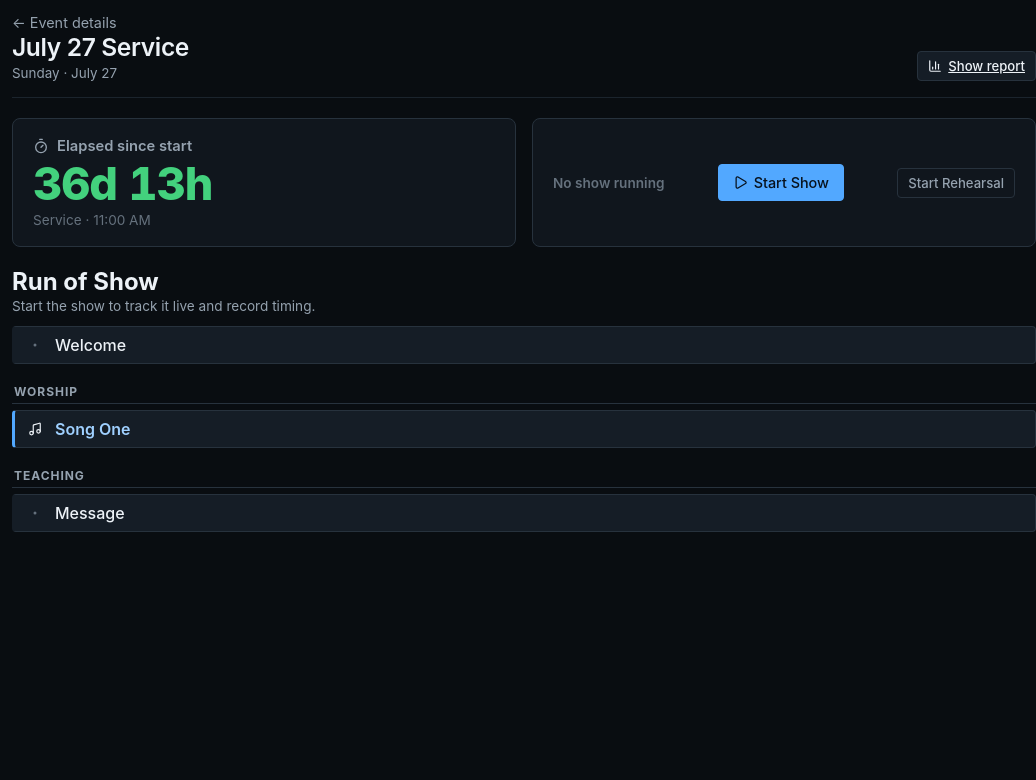
start rehearsal › starts under the server-issued rehearsal timeId and shows the Rehearsal chip
What coordinates should you click on to do the following:
click the button "Start Rehearsal"
I would click on:
 (956, 182)
Its box is [897, 168, 1015, 198].
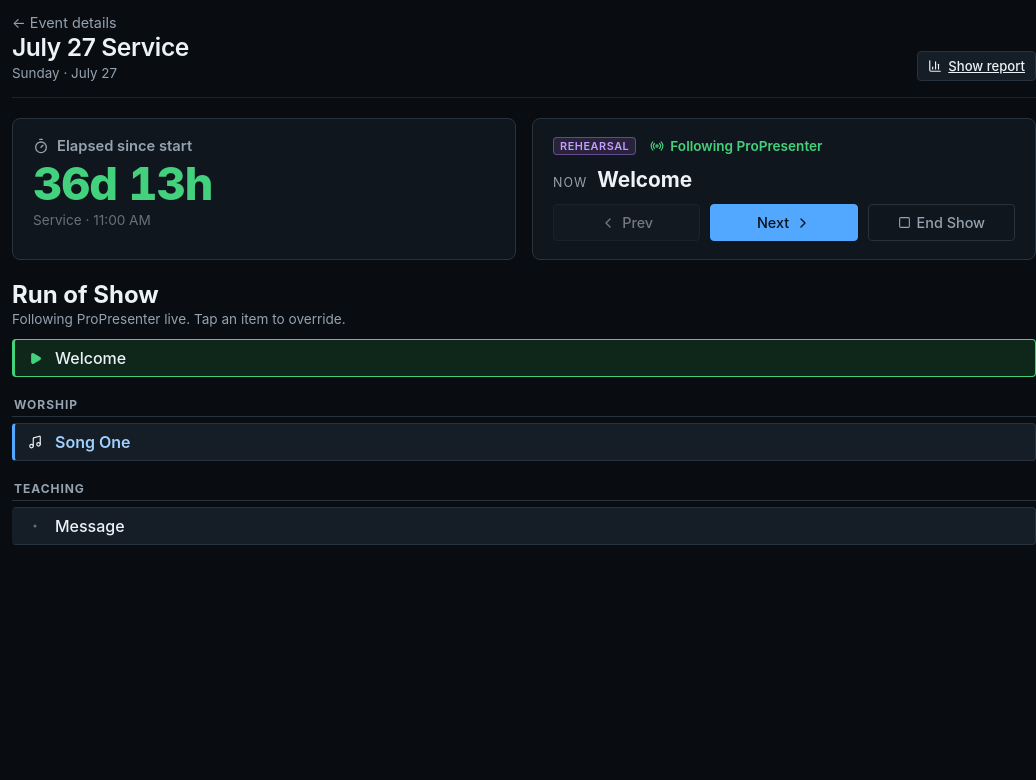
Expected: the text "Rehearsal" is shown, [553, 137, 636, 155]
Expected: the button "End Show" is shown, [868, 204, 1015, 241]
Expected: the button "Start Show" is gone
